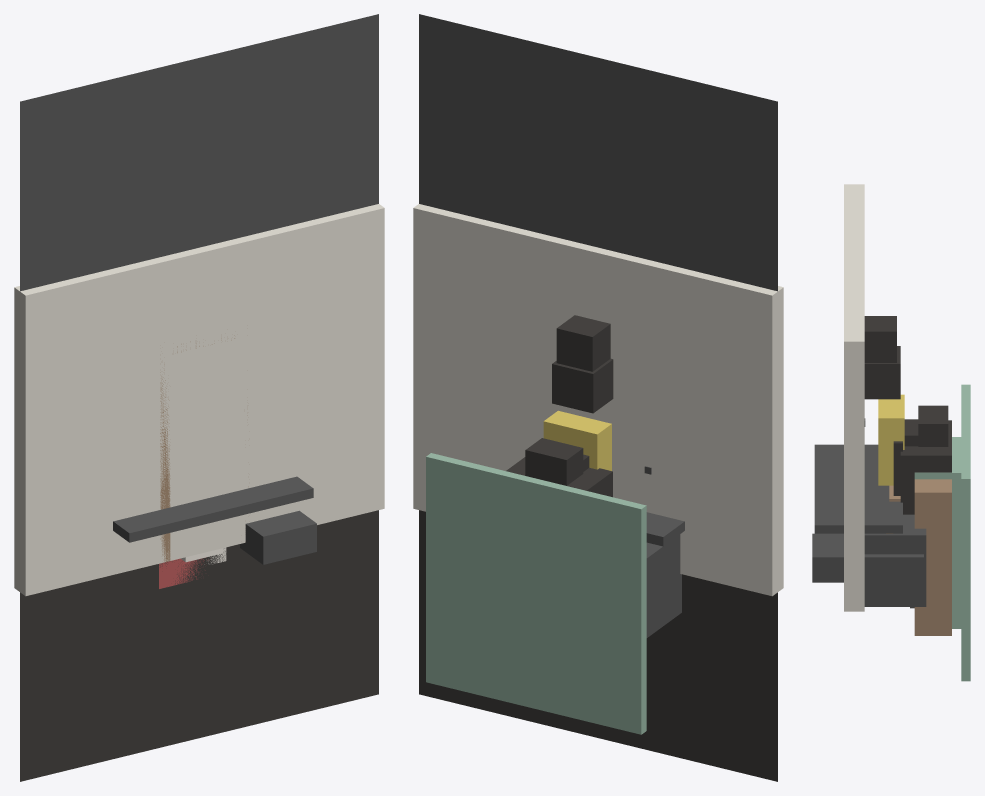
Rendered from whisper-kits.glb.
3 views of the same model, side by side, from view 1: azimuth 30°, elevation 25°; view 2: azimuth 150°, elevation 25°; view 3: azimuth 270°, elevation 25° (orthographic). The views are drawn at different scales.
Parts seen in each view (by area): view 1: kit_wall_4m, kit_ceiling_4x4, kit_floor_4x4, kit_wall_2m, kit_bed_b, kit_m_coroner_bag, kit_door_jamb_l, kit_blood_decal; view 2: kit_ceiling_4x4, kit_wall_4m, kit_extract_standard, kit_wall_2m, kit_floor_4x4, kit_gurney_a, kit_m_coroner_head, kit_m_whisperer_head, kit_breaker_light, kit_m_whisperer_body, kit_m_coroner_body, kit_bed_b; view 3: kit_wall_4m, kit_shelf_a, kit_bed_b, kit_m_coroner_bag, kit_gurney_a, kit_extract_standard, kit_locker_a, kit_m_coroner_body, kit_breaker_light, kit_m_whisperer_head, kit_m_coroner_head, kit_m_whisperer_body (+2 smaller).
Boxes of the visible parts, x1,y1,x2,y2 form: kit_wall_4m: (14,204,384,596); kit_ceiling_4x4: (20,14,378,291); kit_floor_4x4: (20,510,378,781); kit_wall_2m: (110,226,294,574); kit_bed_b: (113,476,313,542); kit_m_coroner_bag: (240,510,316,564); kit_door_jamb_l: (160,364,170,561); kit_blood_decal: (159,557,208,588); kit_ceiling_4x4: (419,14,777,291); kit_wall_4m: (413,204,783,596); kit_extract_standard: (426,453,646,734); kit_wall_2m: (503,226,687,574); kit_floor_4x4: (419,510,777,781); kit_gurney_a: (646,534,681,637); kit_m_coroner_head: (552,358,613,413); kit_m_whisperer_head: (556,315,610,371); kit_breaker_light: (543,410,611,470); kit_m_whisperer_body: (525,438,583,485); kit_m_coroner_body: (506,457,612,497); kit_bed_b: (646,512,684,546); kit_wall_4m: (844,184,864,611); kit_shelf_a: (914,479,951,635); kit_bed_b: (814,444,902,533); kit_m_coroner_bag: (812,533,923,582); kit_gurney_a: (864,514,926,606); kit_extract_standard: (961,384,970,681); kit_locker_a: (914,437,961,628); kit_m_coroner_body: (900,420,951,514); kit_breaker_light: (878,394,904,485); kit_m_whisperer_head: (864,316,896,362); kit_m_coroner_head: (864,346,900,399); kit_m_whisperer_body: (918,405,948,446).
Bounding box in the file's own units: 4 × 7.24 × 1.7.
